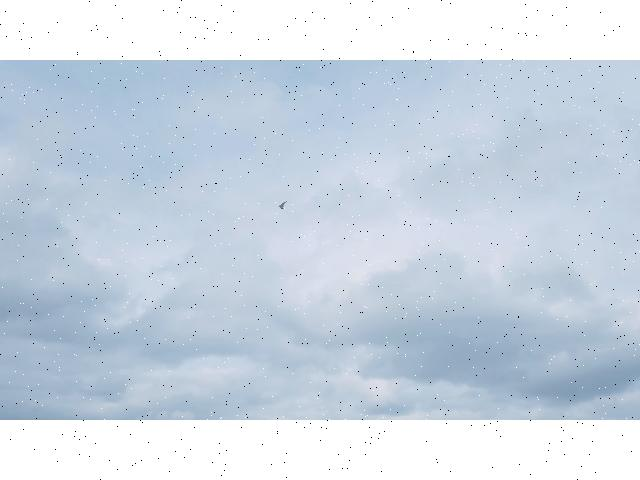Anti-Drone: (276, 200, 290, 212)
